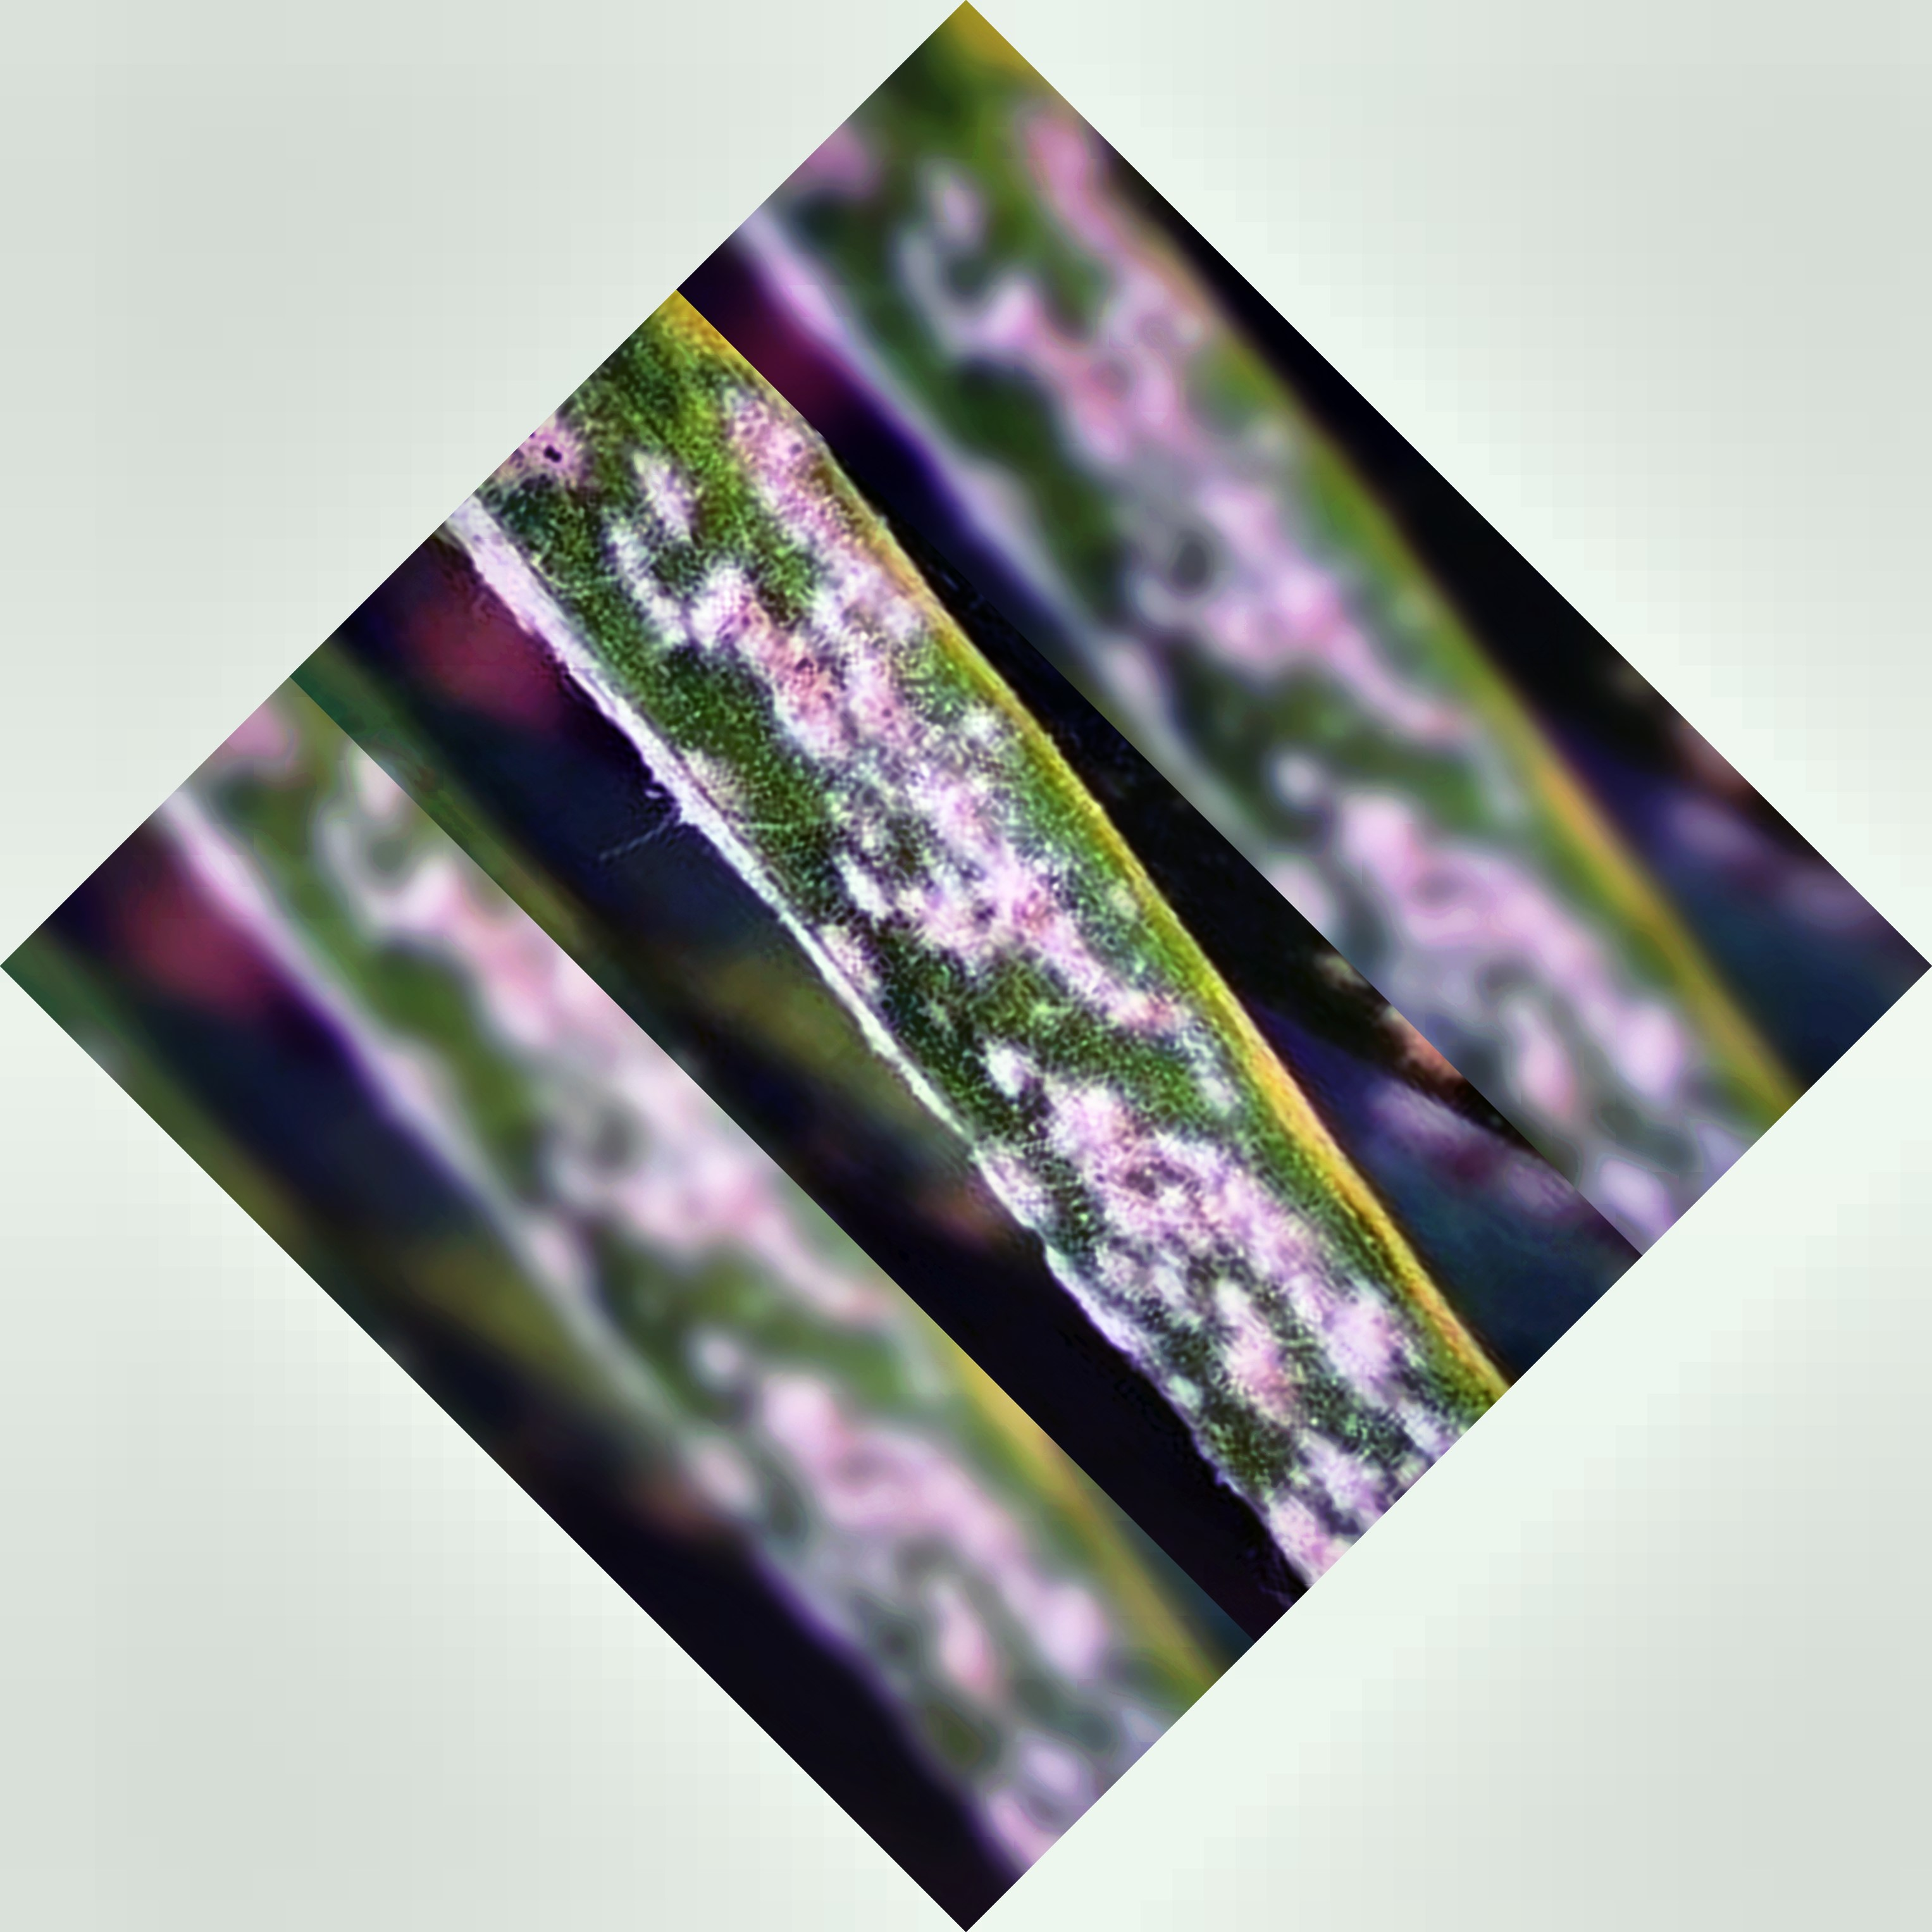Powdery Mildew: (663, 527, 1398, 1451)
